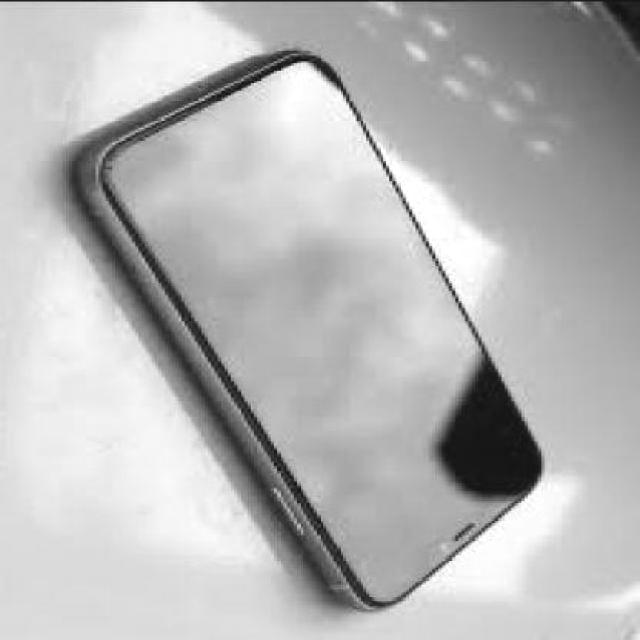fake: (73, 47, 541, 610)
